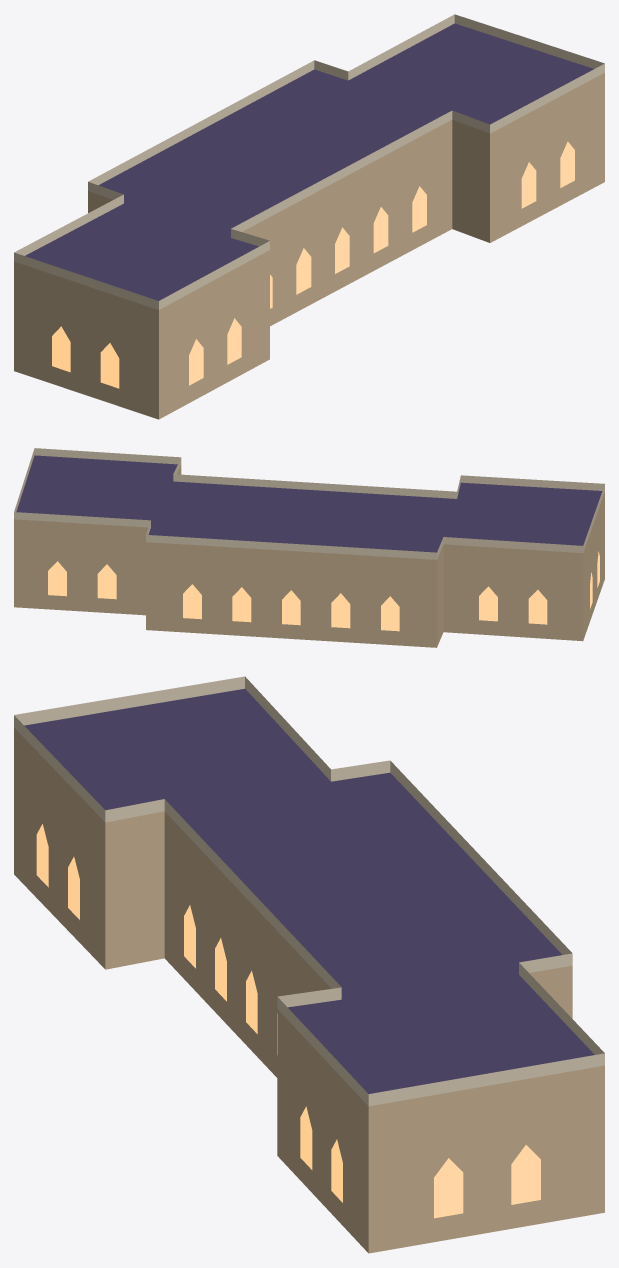
3 views of the same model, one above another, from view 1: azimuth 30°, elevation 25°; view 2: azimuth 150°, elevation 25°; view 3: azimuth 270°, elevation 25° (orthographic). The views are drawn at different scales.
Visible parts, largest first — view 1: campus/b-039-0; view 2: campus/b-039-0; view 3: campus/b-039-0.
Part boxes in pixels (x1,y1,x2,y2): campus/b-039-0: [14, 14, 604, 419]; campus/b-039-0: [14, 448, 604, 647]; campus/b-039-0: [14, 676, 604, 1253].
Bounding box in the file's own units: 40.18 × 7.15 × 24.02.
